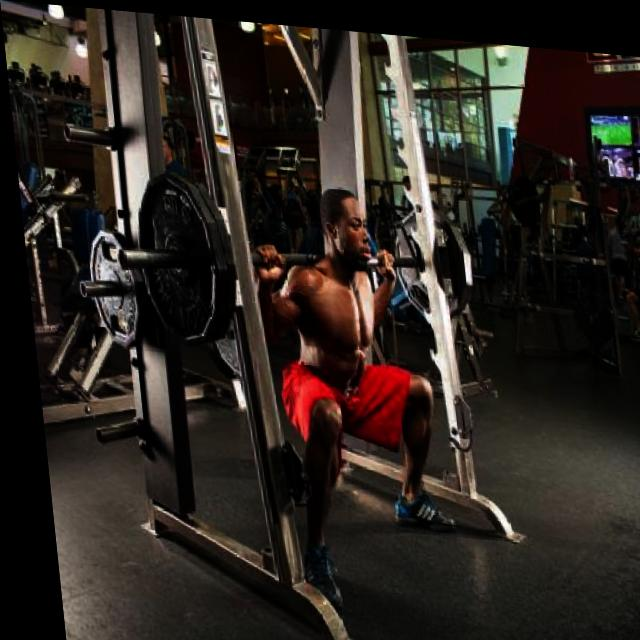barbell: (104, 160, 219, 347), (66, 217, 134, 350)
